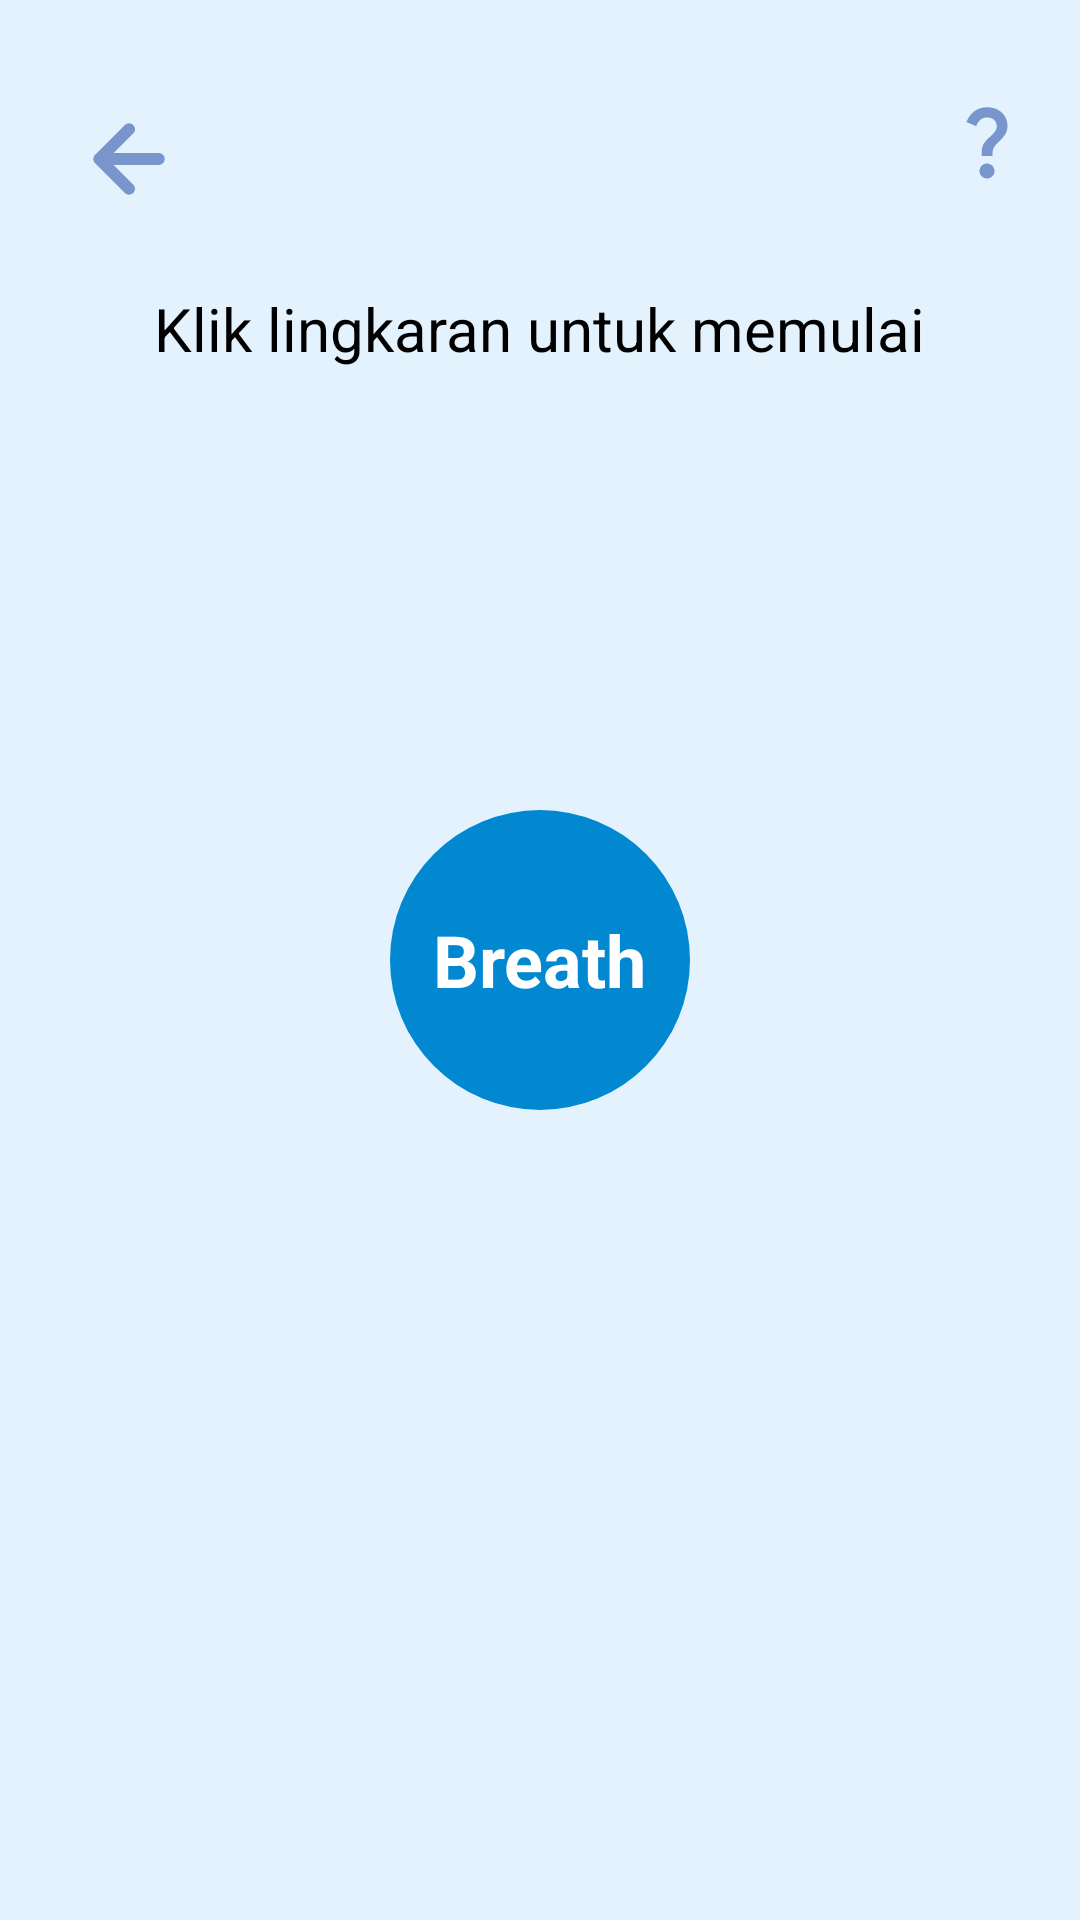

Locate icon controls on the screen. Image size 1080 × 1920, boxes as (x1, y1, x2, y2).
ask: (966, 107, 1008, 179)
back: (93, 123, 165, 195)
